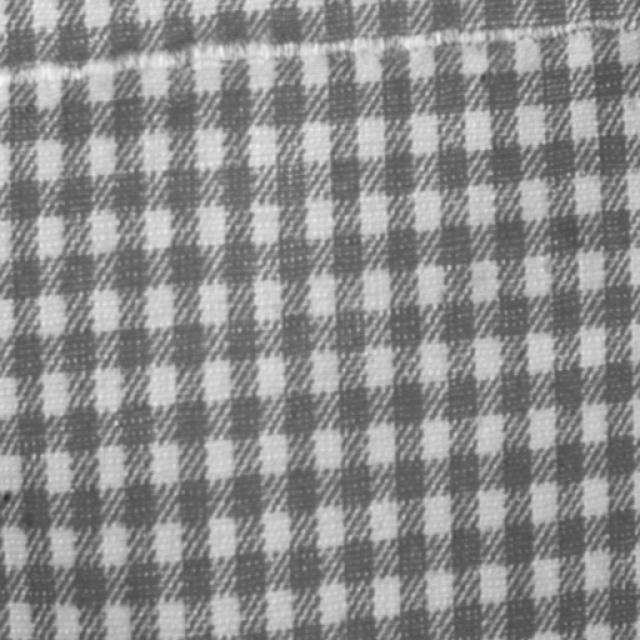Thread-Defect: (10, 14, 628, 83)
